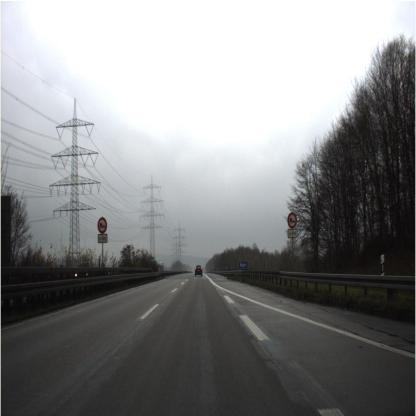prohibitory: (287, 208, 299, 232), (96, 216, 110, 235)
